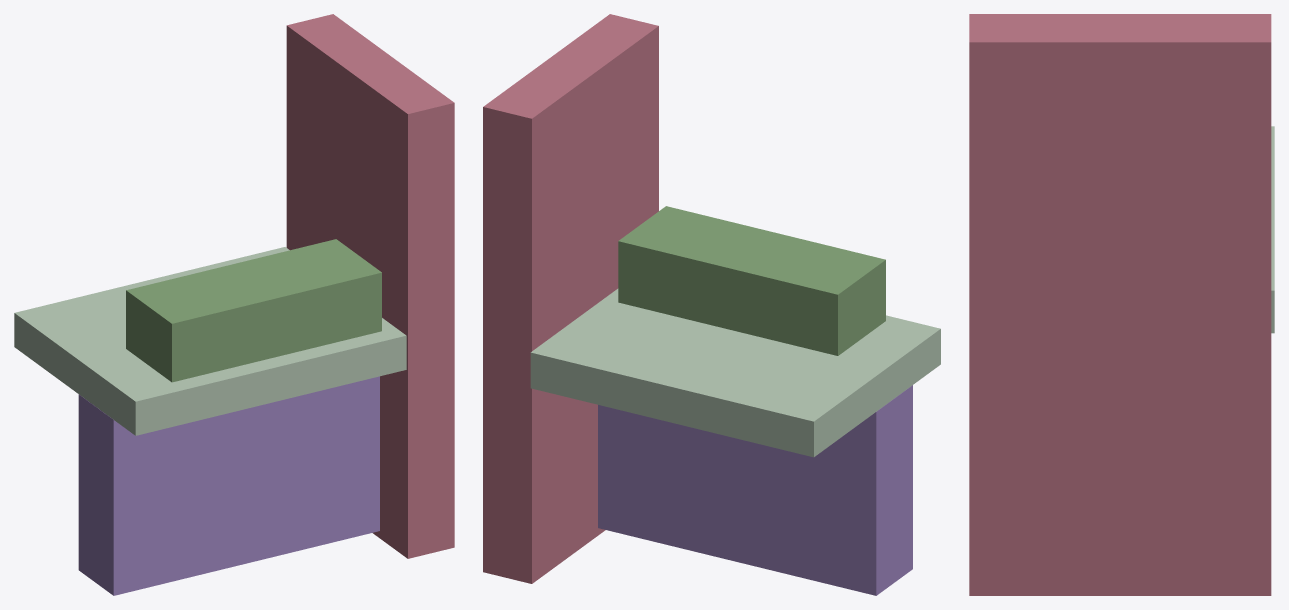
3 renders of one model, left to right at view 1: azimuth 30°, elevation 25°; view 2: azimuth 150°, elevation 25°; view 3: azimuth 270°, elevation 25°, orthographic. The views are drawn at different scales.
Parts seen in each view (by area): view 1: world; view 2: world; view 3: world.
Boxes of the visible parts, <box> form: world: <box>14,14,454,595</box>; world: <box>483,14,940,595</box>; world: <box>969,14,1274,595</box>.
Bounding box in the file's own units: 6.8 × 9.1 × 4.55.
